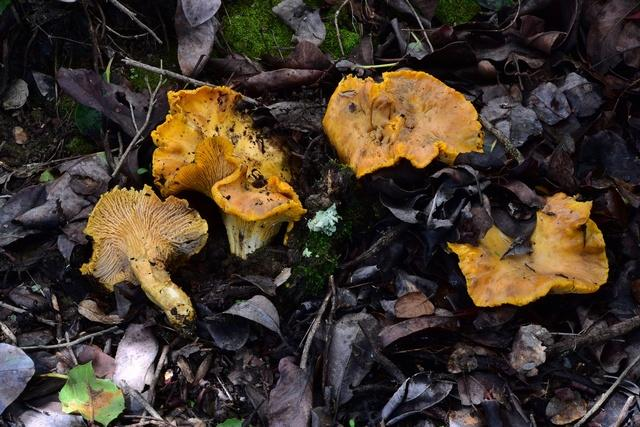edible_mushroom: (149, 83, 306, 259), (79, 182, 209, 334), (451, 192, 613, 308), (320, 68, 485, 177)
